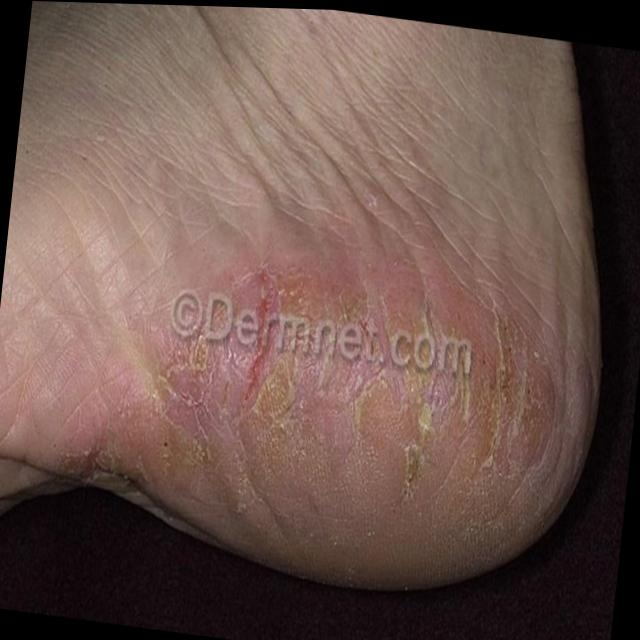liquenificacion 1: (0, 189, 242, 467), (258, 144, 556, 353)
